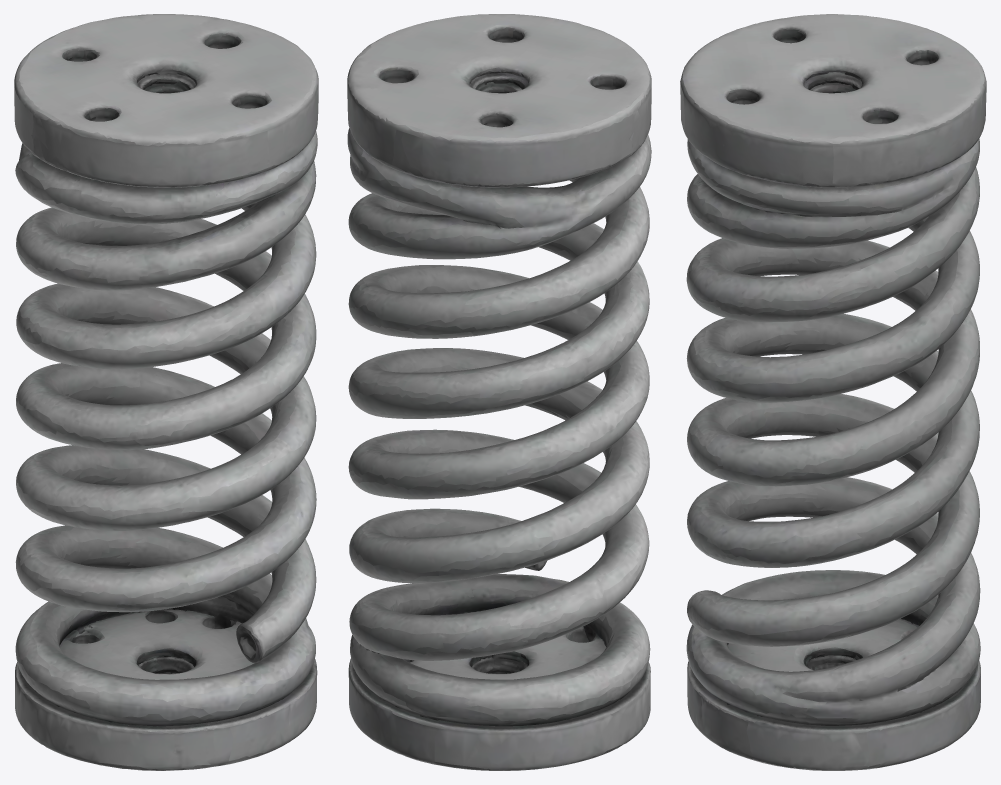
The picture shows the model from 3 angles, left to right: view 1: azimuth 30°, elevation 25°; view 2: azimuth 150°, elevation 25°; view 3: azimuth 270°, elevation 25°; orthographic projection.
Parts seen in each view (by area): view 1: geometry_0; view 2: geometry_0; view 3: geometry_0.
Boxes of the visible parts, bbox=[...] form: geometry_0: bbox=[14, 14, 318, 770]; geometry_0: bbox=[347, 14, 651, 770]; geometry_0: bbox=[680, 14, 986, 770].
Size of the model in its own units: 0.0613 by 0.14 by 0.0613.
1 material, 1 textured.
